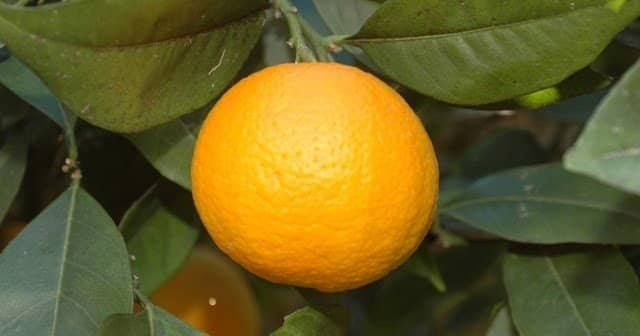orange: (195, 61, 438, 284)
